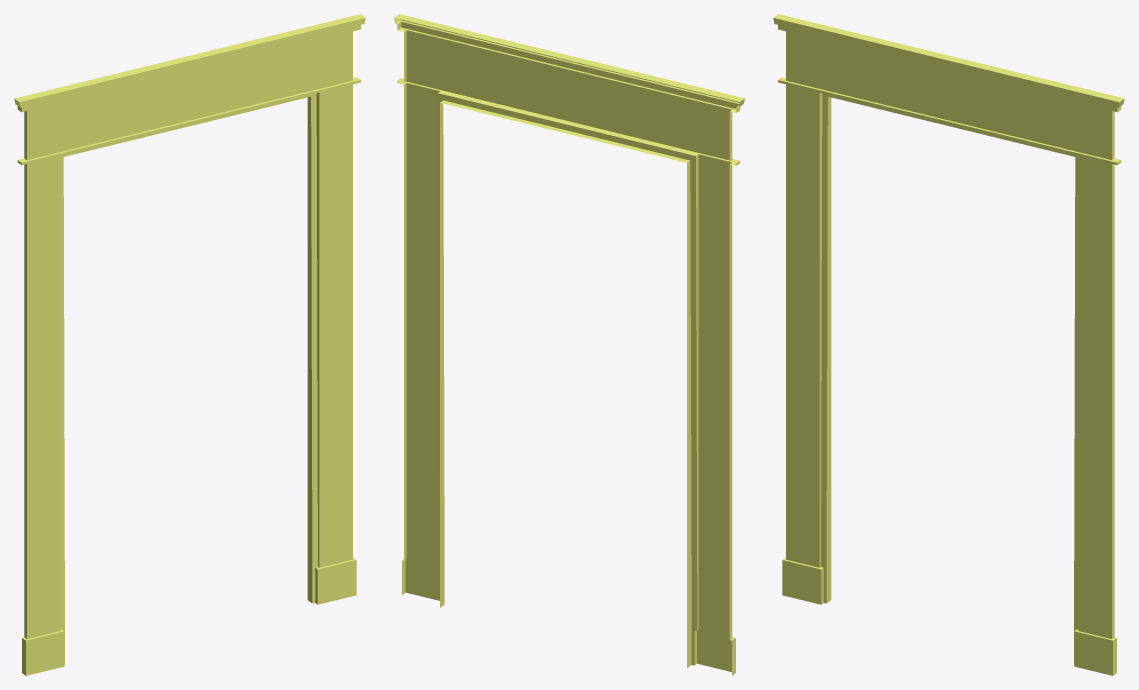
Rendered from SM_Door_Frame_New.fbx.
3 views of the same model, side by side, from view 1: azimuth 30°, elevation 25°; view 2: azimuth 150°, elevation 25°; view 3: azimuth 330°, elevation 25° (orthographic).
Parts seen in each view (by area): view 1: Door_Frame; view 2: Door_Frame; view 3: Door_Frame.
Boxes of the visible parts, left/top/right/bottom form: Door_Frame: left=14, top=14, right=365, bottom=675; Door_Frame: left=394, top=14, right=744, bottom=675; Door_Frame: left=773, top=14, right=1124, bottom=675.
Bounding box in the file's own units: 134 × 214 × 5.76.
